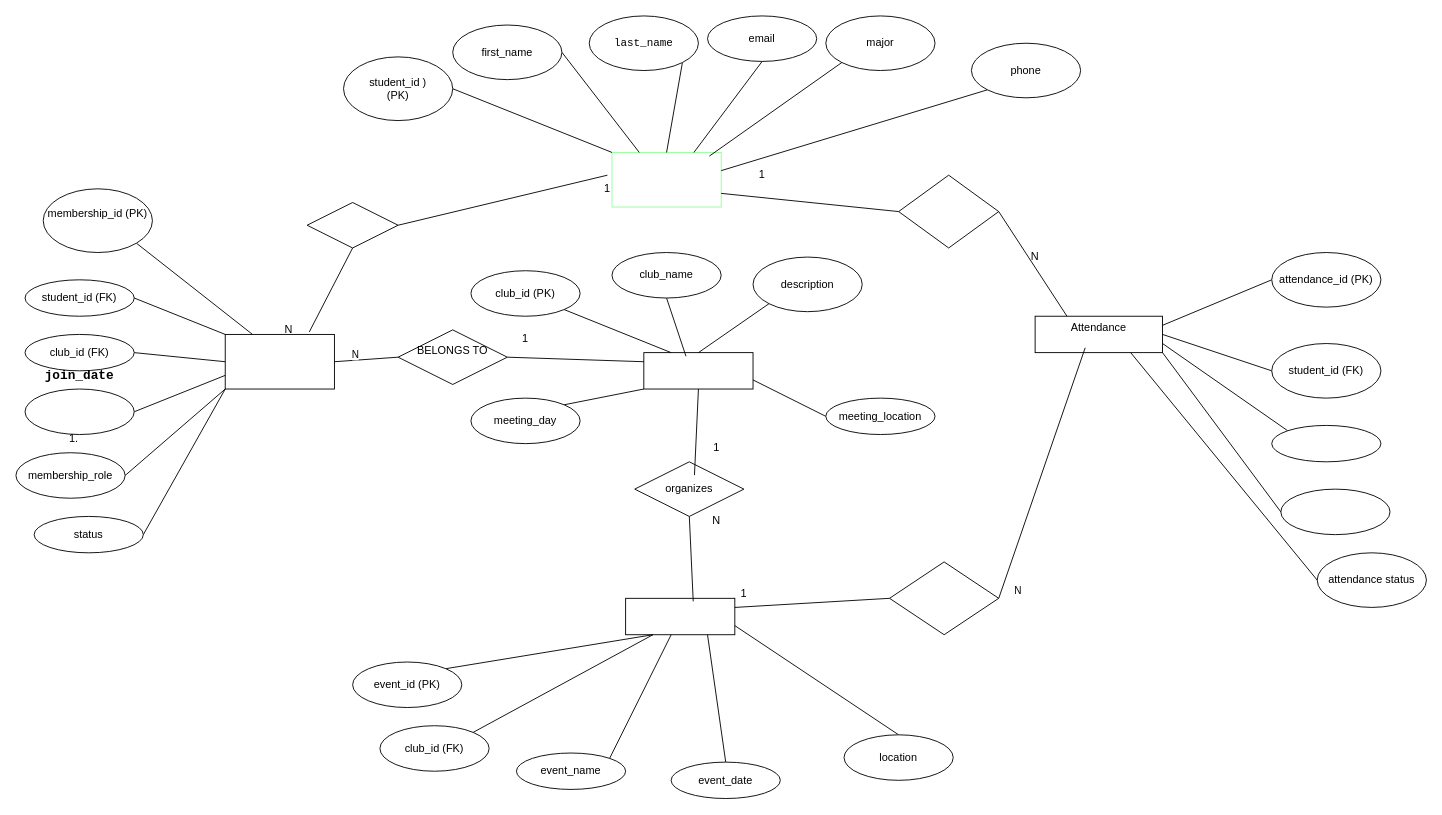
Some shapes in this 1442 by 815 pixel diagram are drawn without their labels. Each missing label, with the box of its shape:
attendance date: (1280, 488, 1390, 535)
CLUB: (643, 352, 753, 389)
EVENT: (625, 597, 735, 635)
event_id (FK): (1271, 425, 1381, 462)
holds: (306, 202, 398, 248)
INCLUDES: (889, 561, 999, 635)
MEMBERSHIP: (224, 334, 334, 389)
records: (898, 174, 999, 248)
STUDENT: (611, 152, 721, 207)
